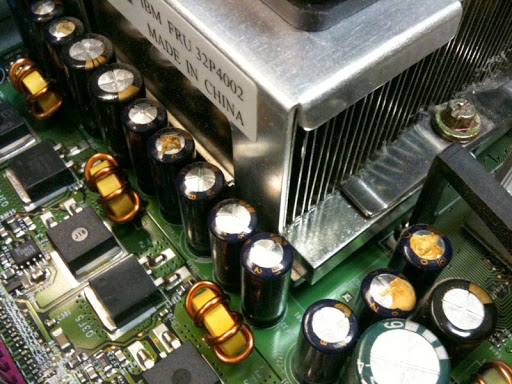capacitor: (243, 235, 290, 276), (312, 304, 348, 341), (448, 287, 481, 327), (216, 202, 252, 236), (371, 274, 407, 308), (98, 70, 137, 97), (157, 130, 190, 161), (412, 230, 441, 260), (131, 104, 159, 129), (77, 38, 106, 62), (186, 168, 213, 192)
